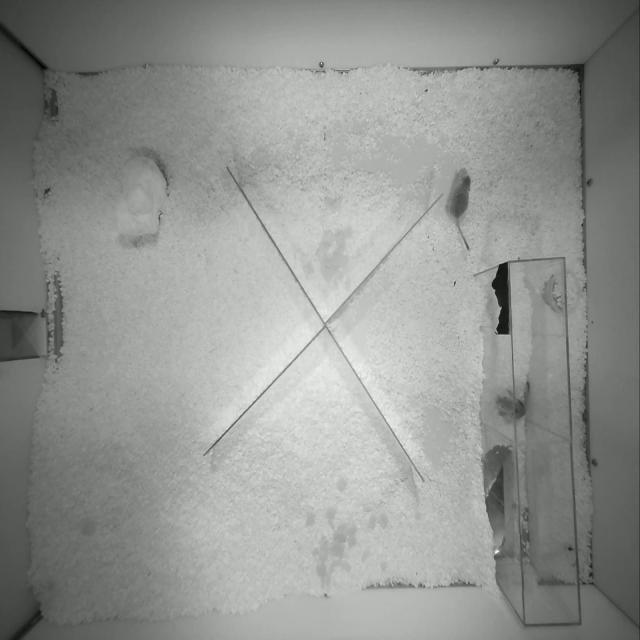pup_fluffy: (446, 175, 470, 250)
pup_spotted: (496, 381, 529, 420)
